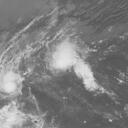cyclone: (50, 39, 80, 70)
